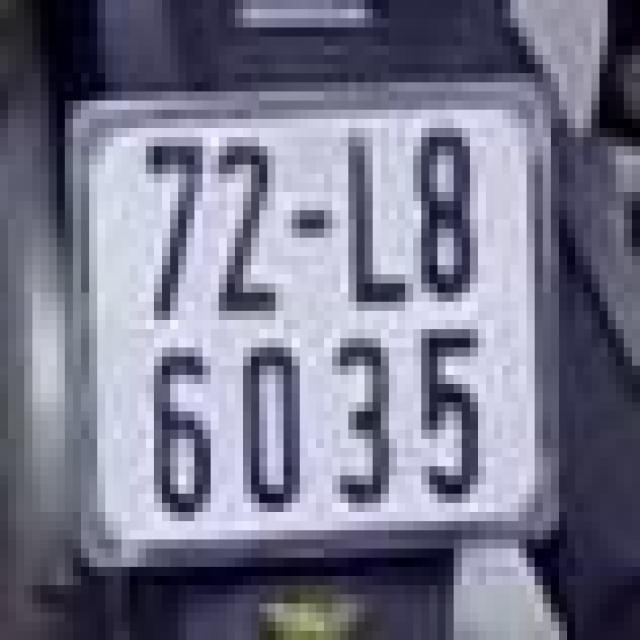0: (231, 329, 312, 521)
2: (210, 124, 284, 316)
3: (324, 329, 397, 521)
5: (409, 311, 490, 512)
6: (138, 338, 227, 521)
7: (134, 123, 206, 324)
8: (409, 119, 482, 302)
L: (332, 114, 405, 316)
